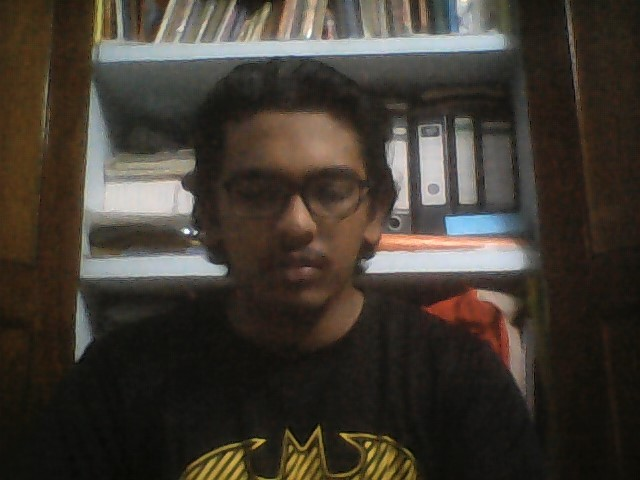person: (50, 56, 535, 469)
